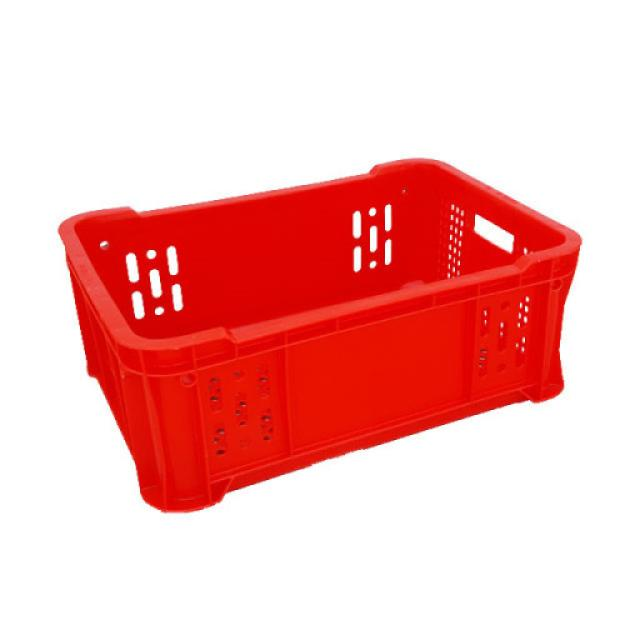basket: (50, 96, 624, 528)
